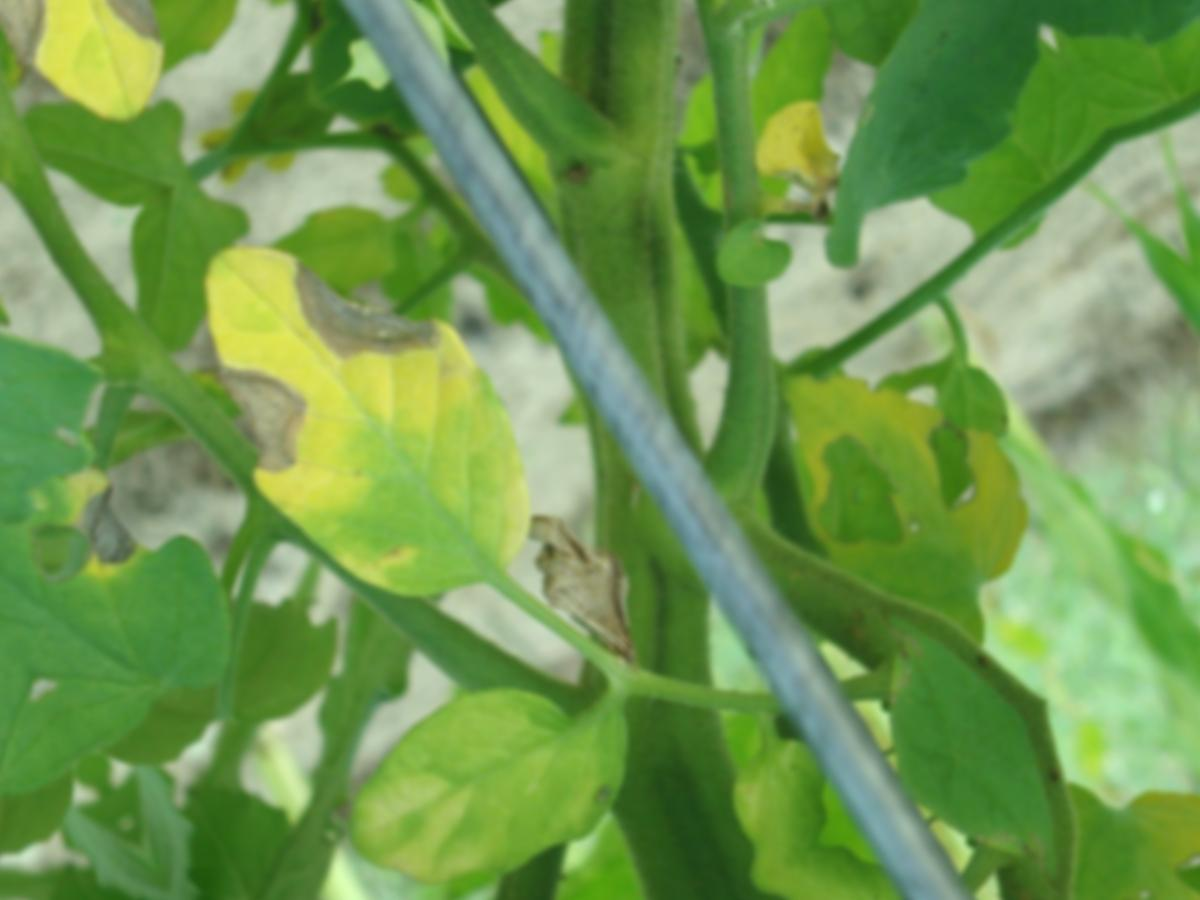Tomato Early blight leaf: (151, 164, 590, 660)
